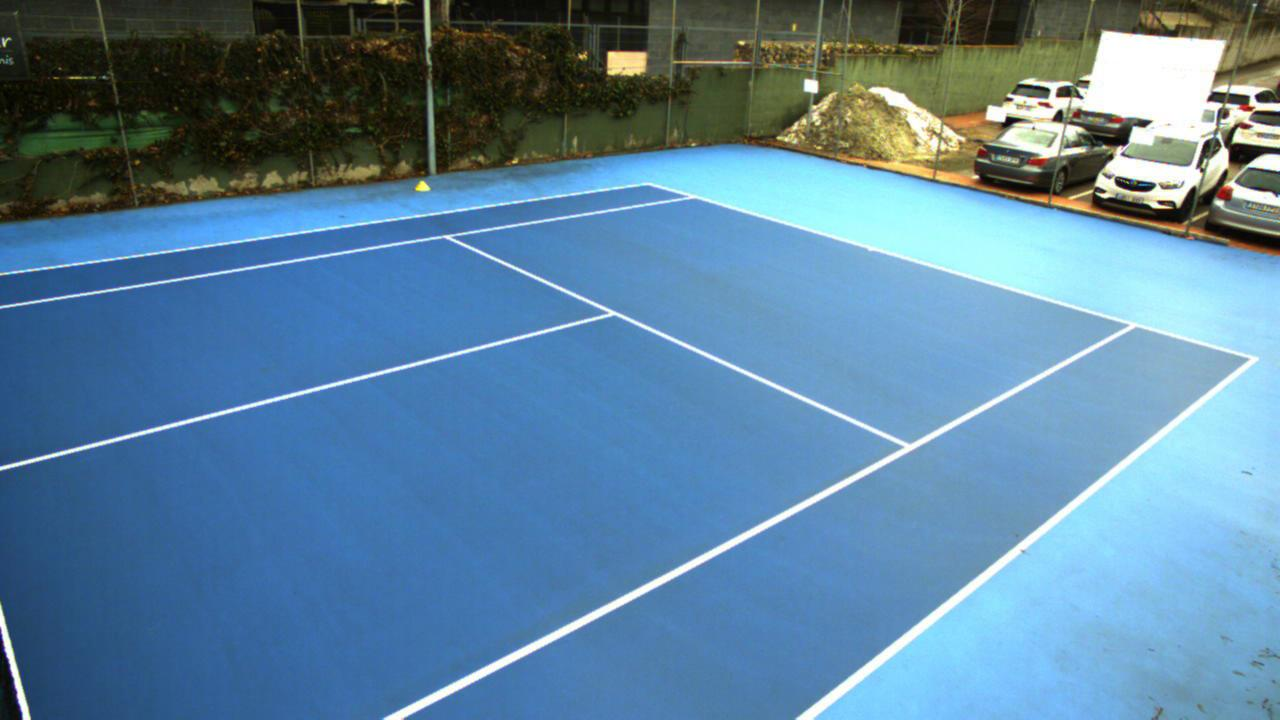cancha_tenis: (0, 193, 1137, 720)
point_f1: (679, 182, 704, 210)
point_f2: (1119, 310, 1143, 342)
point_fc1: (864, 240, 880, 261)
point_i1: (434, 223, 461, 250)
point_i2: (882, 430, 927, 461)
point_ic1: (590, 297, 626, 327)
